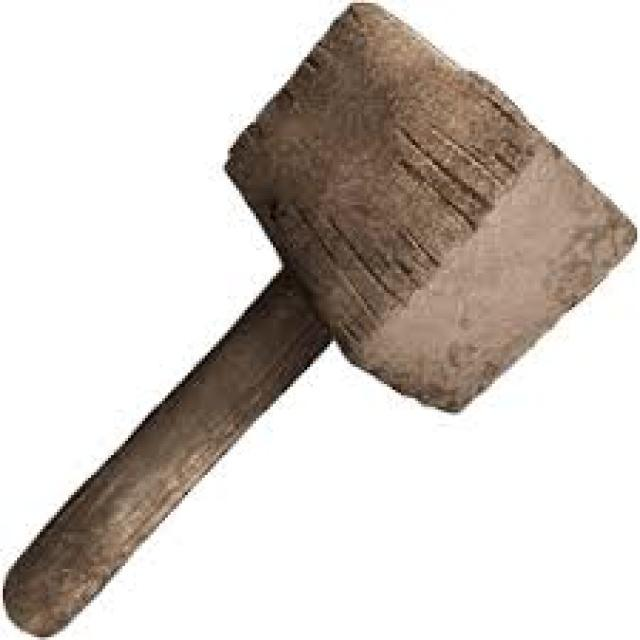Palu: (0, 2, 634, 637)
